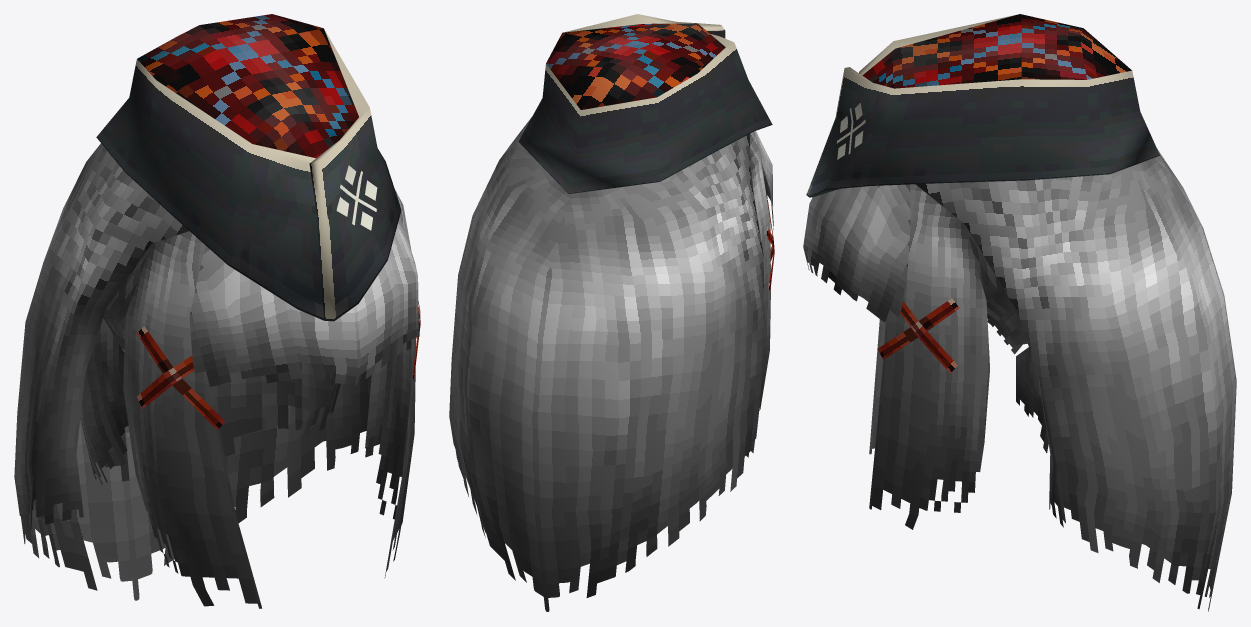
Rendered from f_helmet158.obj.
3 views of the same model, side by side, from view 1: azimuth 30°, elevation 25°; view 2: azimuth 150°, elevation 25°; view 3: azimuth 270°, elevation 25° (orthographic). The views are drawn at different scales.
Parts seen in each view (by area): view 1: mesh00, mesh01; view 2: mesh00, mesh01; view 3: mesh00, mesh01.
Boxes of the visible parts, x1=… form: mesh00: x1=14, y1=143, x2=419, y2=608; mesh01: x1=96, y1=14, x2=420, y2=429; mesh00: x1=449, y1=117, x2=773, y2=611; mesh01: x1=518, y1=14, x2=774, y2=291; mesh00: x1=803, y1=148, x2=1236, y2=611; mesh01: x1=806, y1=14, x2=1159, y2=373.
Bounding box in the file's own units: 25.98 × 42.87 × 29.3.
2 materials, 2 textured.
